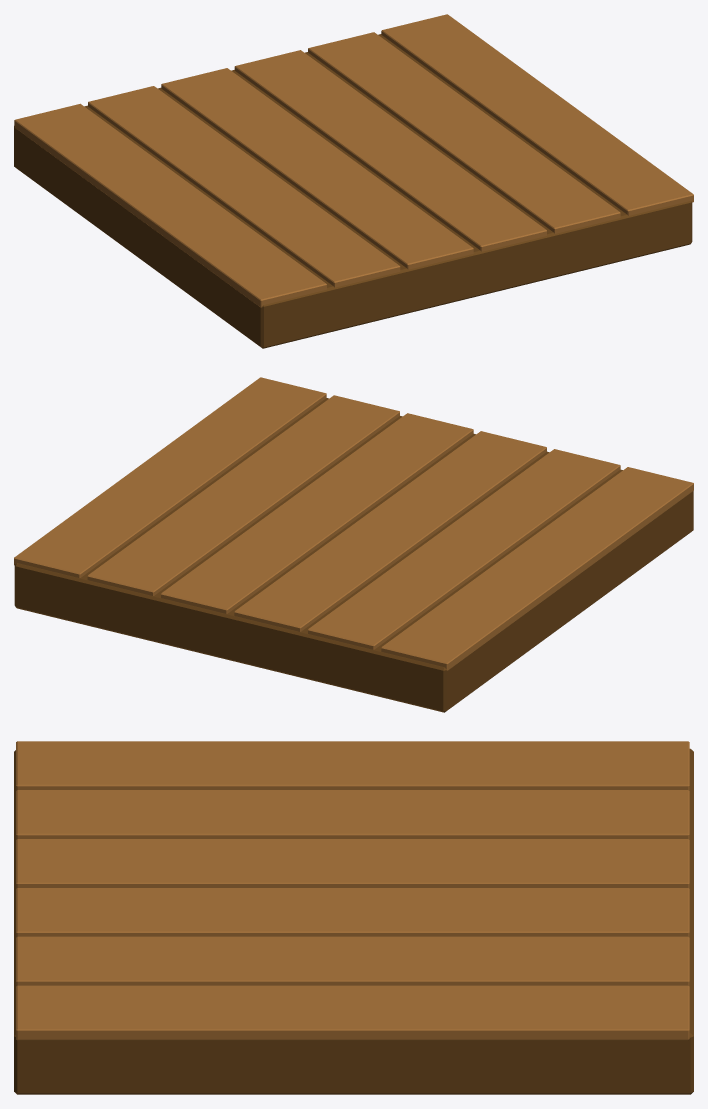
Rendered from floor.fbx.
The picture shows the model from 3 angles, top to bottom: view 1: azimuth 30°, elevation 25°; view 2: azimuth 150°, elevation 25°; view 3: azimuth 270°, elevation 25°; orthographic projection. The views are drawn at different scales.
Parts seen in each view (by area): view 1: Plane.001, Plane; view 2: Plane.001, Plane; view 3: Plane.001, Plane.
Part boxes in pixels (x1,y1,x2,y2): Plane.001: (14, 14, 693, 307); Plane: (14, 34, 692, 348); Plane.001: (14, 377, 693, 670); Plane: (14, 398, 693, 712); Plane.001: (16, 741, 689, 1040); Plane: (14, 748, 693, 1094).
Size of the model in its own units: 201 by 21.99 by 200.
